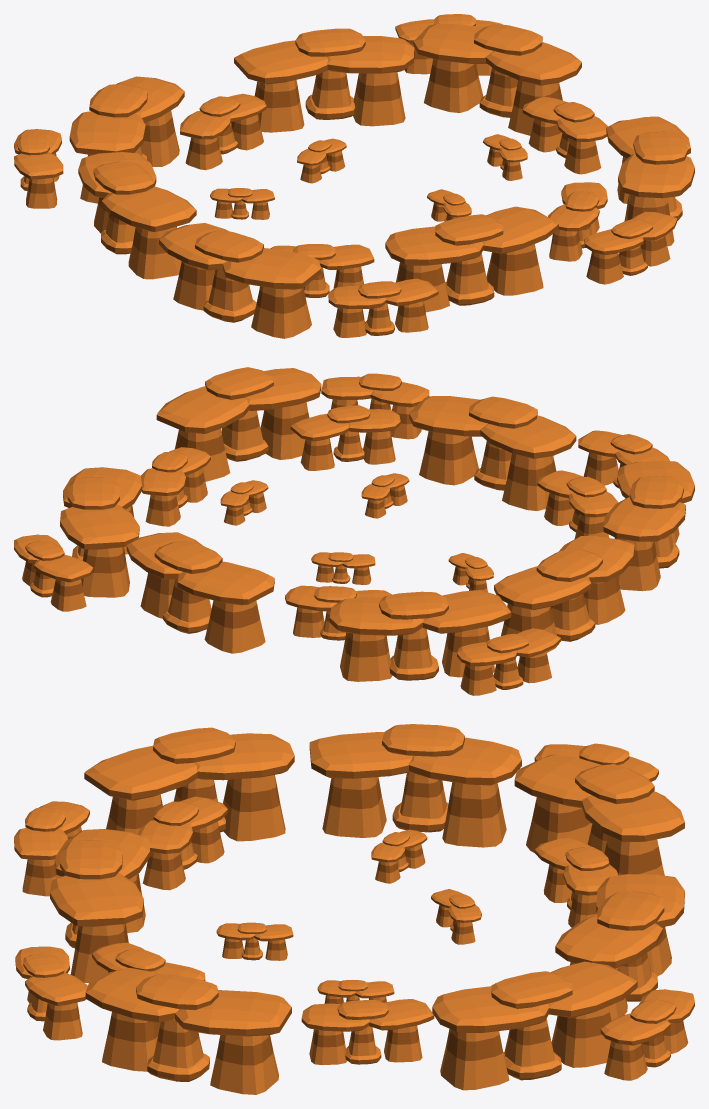
File: Pilares Race.fbx
3 views of the same model, one above another, from view 1: azimuth 30°, elevation 25°; view 2: azimuth 150°, elevation 25°; view 3: azimuth 270°, elevation 25° (orthographic). The views are drawn at different scales.
Parts seen in each view (by area): view 1: torres de rocas; view 2: torres de rocas; view 3: torres de rocas.
Part boxes in pixels (<box>): torres de rocas: <box>14,14,694,338</box>; torres de rocas: <box>14,367,694,695</box>; torres de rocas: <box>14,724,694,1094</box>.
Size of the model in its own units: 35974 by 4917 by 34142.
